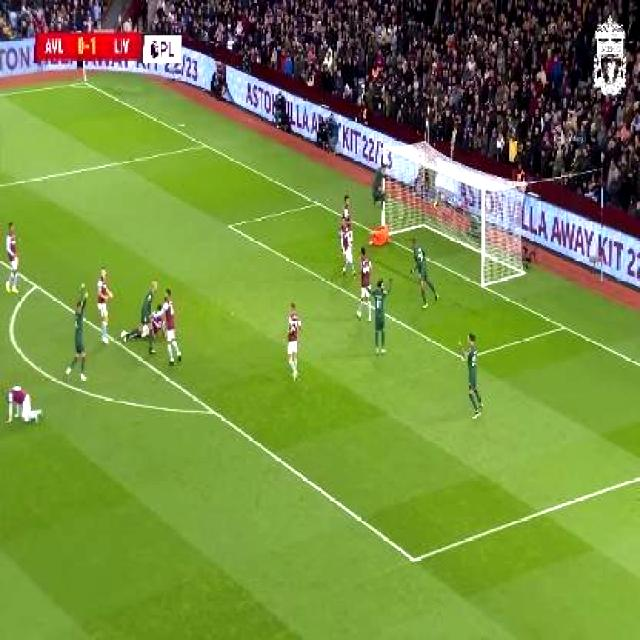bigarea_bottom_inner: (400, 537, 429, 580)
bigarea_top_outter: (198, 138, 210, 151)
bottom_arc_area_intersection: (205, 400, 220, 423)
corner: (76, 77, 90, 88)
smallarea_bottom_outter: (554, 315, 571, 337)
smallarea_top_inner: (223, 215, 237, 234)
smallarea_top_outter: (309, 195, 322, 211)
top_arc_area_intersection: (29, 277, 40, 294)
